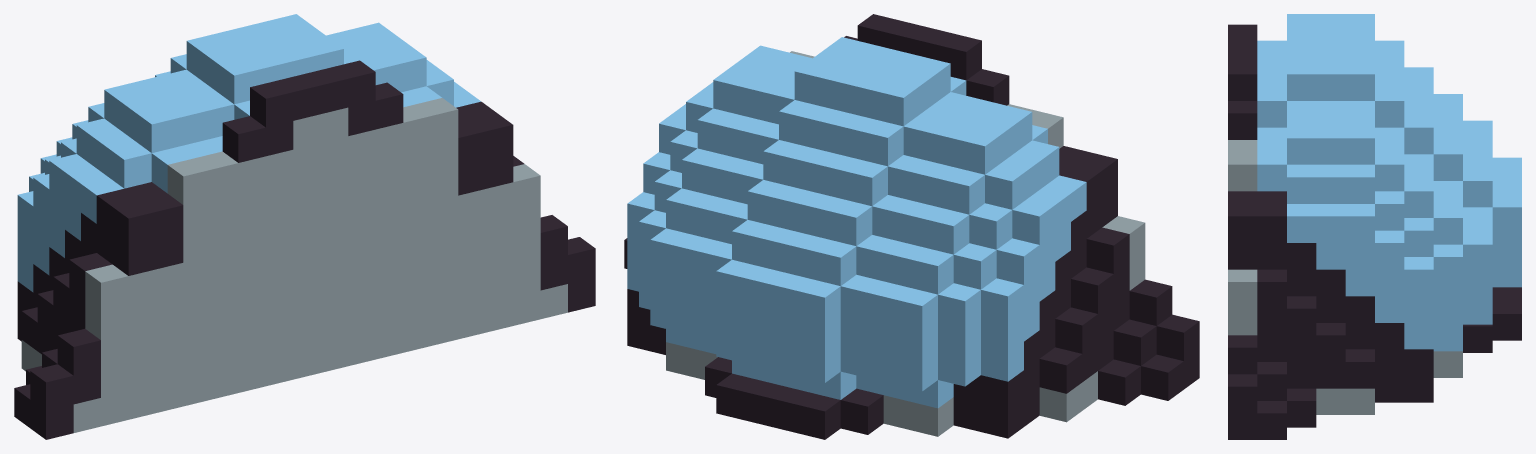
Rendered from Ilumination-10.obj.
3 views of the same model, side by side, from view 1: azimuth 30°, elevation 25°; view 2: azimuth 150°, elevation 25°; view 3: azimuth 270°, elevation 25° (orthographic). The views are drawn at different scales.
Bounding box in the file's own units: 2 × 1 × 1.
Materials: 1 (1 with a texture image).
